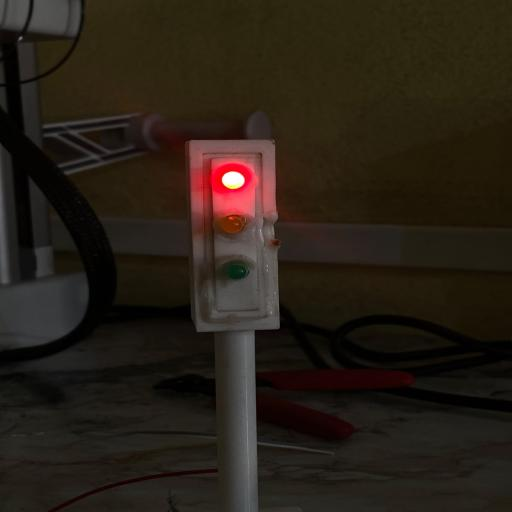Red Light: (212, 162, 257, 193), (222, 171, 245, 189)
